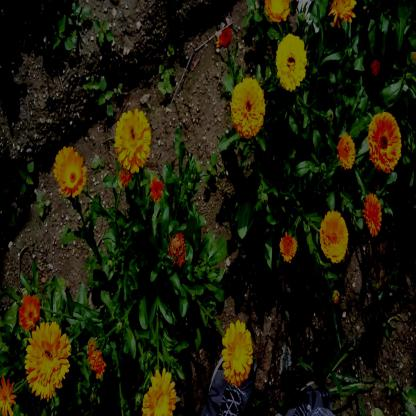marigold: (26, 320, 68, 398), (114, 109, 148, 170), (220, 321, 252, 384), (367, 112, 402, 169), (232, 80, 266, 136), (277, 35, 306, 91), (55, 146, 84, 196), (321, 211, 349, 262), (142, 369, 173, 413), (362, 191, 382, 233), (18, 294, 40, 330), (338, 133, 356, 166), (282, 234, 300, 265), (0, 376, 15, 413)
